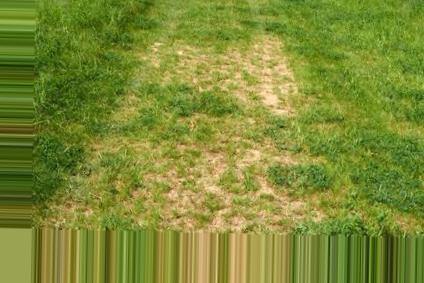patch: (162, 140, 278, 228), (236, 46, 299, 117)
